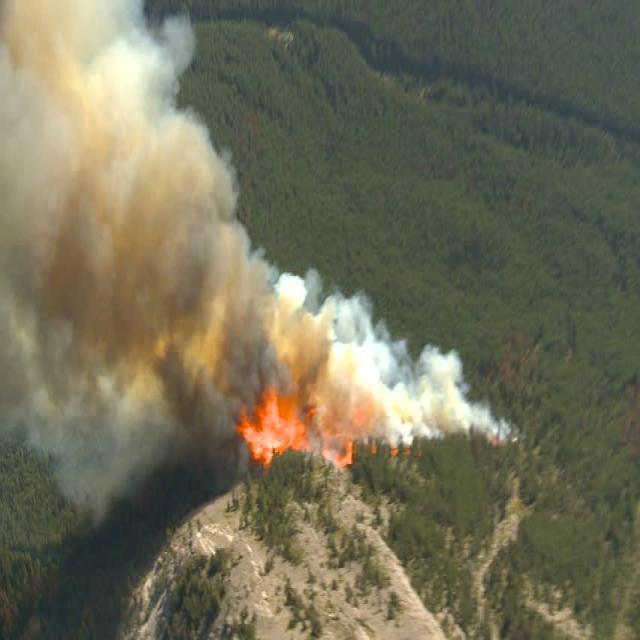Fire: (253, 400, 291, 460)
Smoke: (0, 26, 473, 440)
